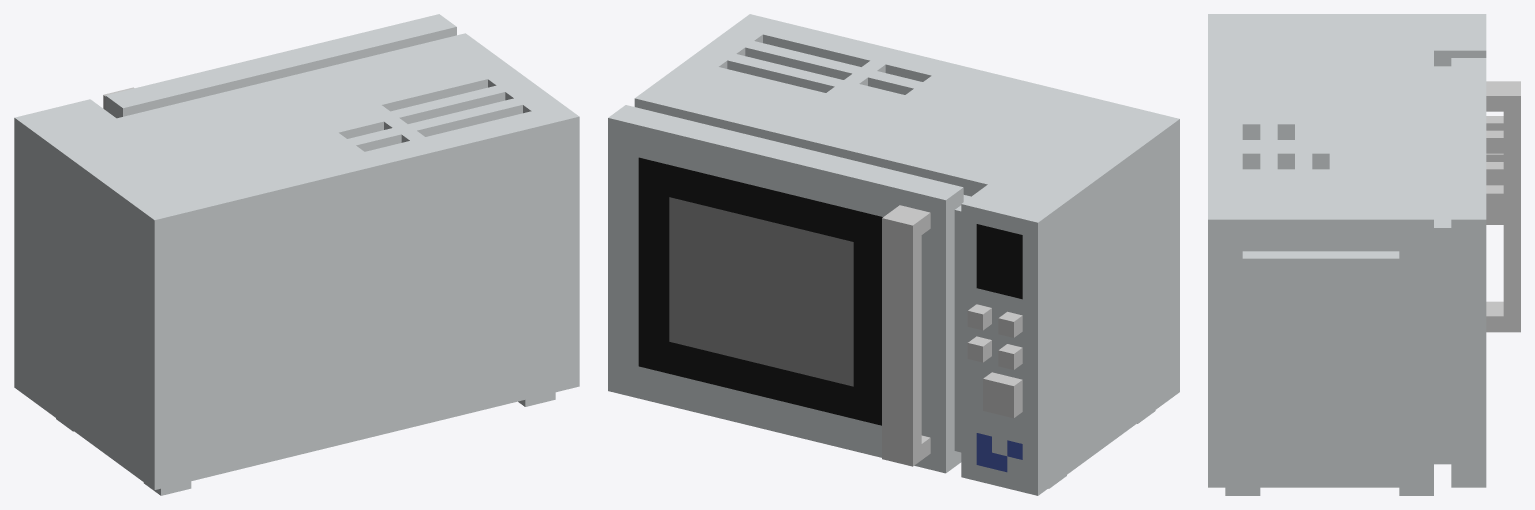
File: microwave.glb
The picture shows the model from 3 angles, left to right: view 1: azimuth 30°, elevation 25°; view 2: azimuth 150°, elevation 25°; view 3: azimuth 270°, elevation 25°; orthographic projection. The views are drawn at different scales.
Visible parts, largest first — view 1: Untitled; view 2: Untitled; view 3: Untitled.
Part boxes in pixels (x1=…): Untitled: x1=14, y1=14, x2=579, y2=495; Untitled: x1=608, y1=14, x2=1179, y2=495; Untitled: x1=1208, y1=14, x2=1520, y2=495.
Bounding box in the file's own units: 0.87 × 0.54 × 0.54.
Materials: 1 (1 with a texture image).
